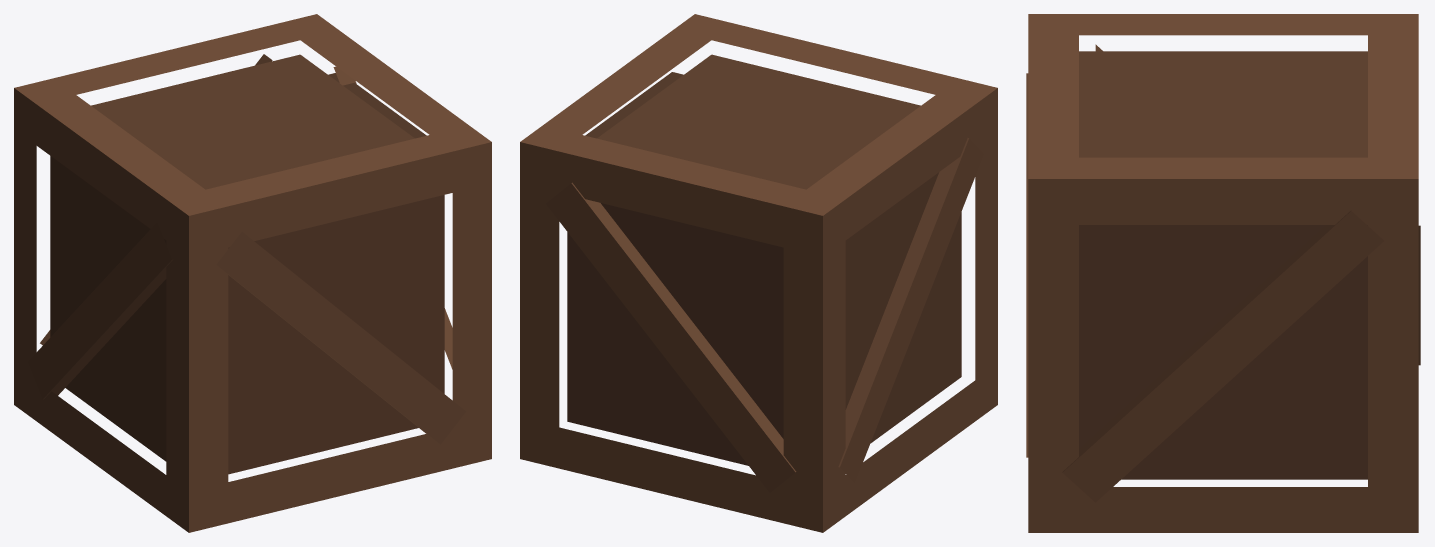
Rendered from crate.glb.
3 renders of one model, left to right at view 1: azimuth 30°, elevation 25°; view 2: azimuth 150°, elevation 25°; view 3: azimuth 270°, elevation 25°, orthographic. The views are drawn at different scales.
Parts seen in each view (by area): view 1: lit; view 2: lit; view 3: lit.
Part boxes in pixels (bbox=[...]): lit: bbox=[14, 14, 491, 532]; lit: bbox=[520, 14, 997, 532]; lit: bbox=[1026, 14, 1420, 532].
Size of the model in its own units: 1.01 by 1 by 1.01.
